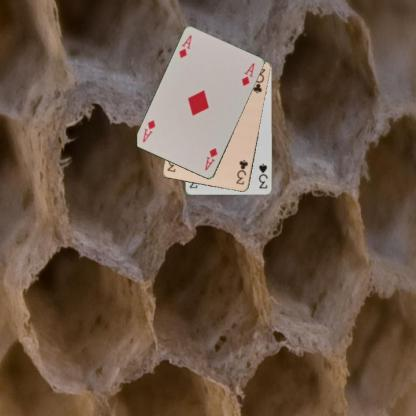3c: (233, 157, 249, 186)
3s: (256, 161, 269, 190)
Ad: (202, 145, 219, 172), (176, 33, 193, 59)
